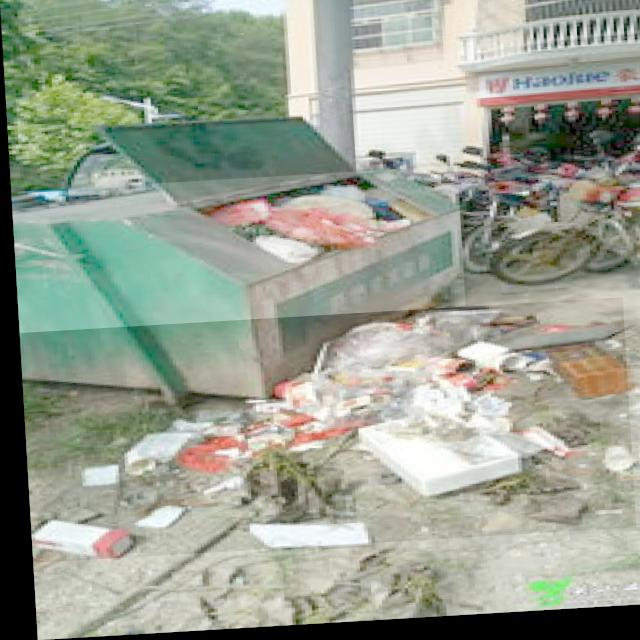garbage: (16, 305, 629, 563)
overflow: (9, 171, 465, 410)
